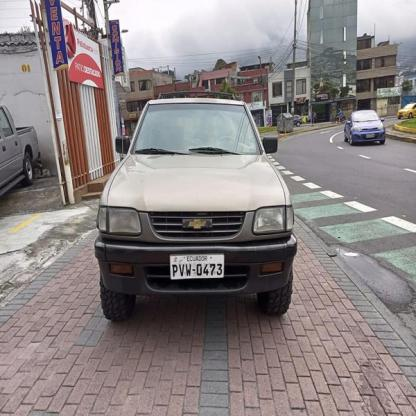Placa: (165, 252, 228, 284)
